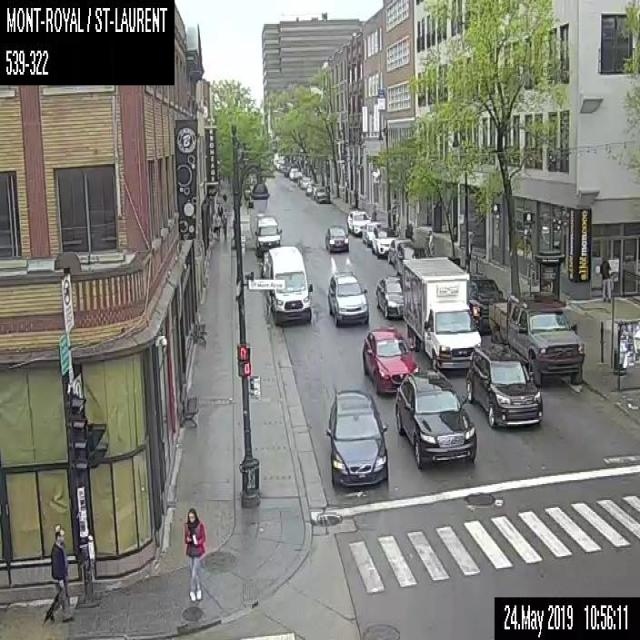pedestrian: (44, 524, 71, 621), (182, 507, 205, 601), (599, 255, 611, 301), (426, 225, 436, 258), (219, 213, 229, 242), (212, 211, 221, 237), (216, 201, 223, 214)
vehicle: (402, 251, 479, 376), (390, 368, 479, 470), (489, 293, 587, 384), (322, 386, 390, 494), (464, 341, 544, 430), (359, 326, 421, 390), (263, 244, 312, 322), (325, 269, 369, 324), (468, 273, 500, 329), (253, 214, 285, 262), (373, 273, 406, 318), (321, 220, 354, 254), (344, 207, 369, 236), (388, 237, 410, 267), (372, 226, 393, 255), (362, 220, 381, 248), (315, 187, 330, 204)
